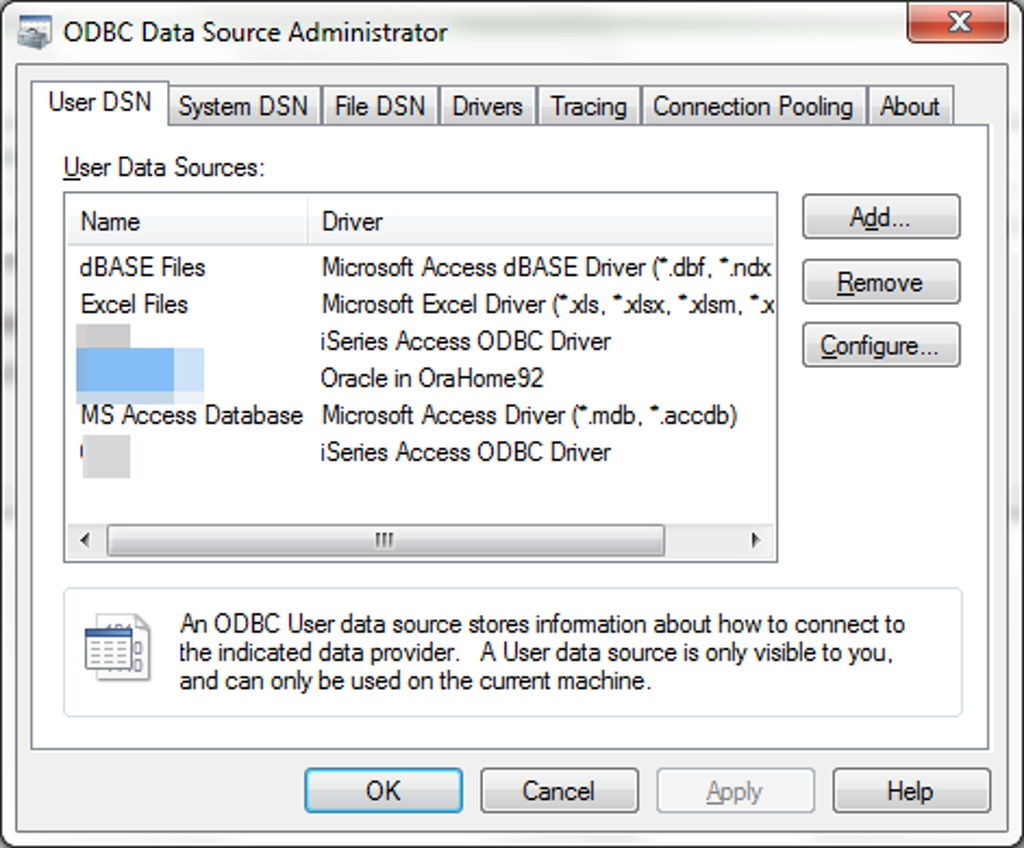button: (643, 85, 868, 127), (803, 193, 961, 241), (802, 258, 961, 305), (657, 767, 815, 814), (833, 767, 992, 813), (803, 322, 961, 368), (481, 768, 639, 814), (28, 78, 172, 128), (304, 768, 463, 813), (172, 83, 321, 126), (320, 83, 440, 126), (537, 85, 643, 127), (907, 1, 1009, 44), (440, 84, 539, 126), (868, 85, 953, 126)
common: (172, 602, 917, 702)
container: (2, 1, 1024, 848), (31, 128, 988, 746), (62, 189, 780, 563), (60, 584, 964, 719), (28, 79, 989, 125)
header: (59, 10, 458, 54), (60, 150, 269, 184)
image: (79, 602, 161, 703), (14, 11, 60, 56)
table: (61, 188, 778, 471)
table-cell: (308, 192, 779, 244), (308, 244, 779, 286), (311, 395, 780, 434), (311, 358, 780, 396), (310, 287, 778, 324), (311, 323, 778, 359), (312, 435, 779, 471), (65, 193, 307, 244), (64, 244, 309, 287), (64, 394, 313, 435), (65, 287, 309, 325), (64, 358, 313, 395), (64, 435, 313, 469), (64, 323, 311, 357)
table-row: (65, 191, 777, 243), (65, 243, 776, 285), (64, 394, 779, 434), (64, 358, 778, 394), (64, 286, 777, 322), (63, 435, 778, 469), (64, 324, 778, 357)
